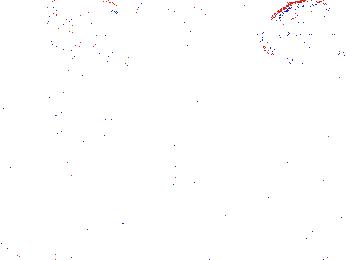moon jellyfish: (127, 6, 208, 88), (261, 1, 346, 62), (43, 1, 136, 53)
